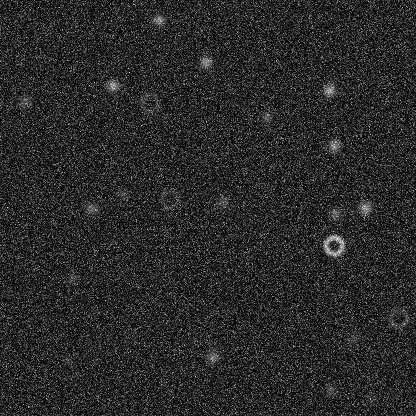Ring: (157, 186, 181, 210), (137, 90, 161, 114), (386, 305, 410, 329), (321, 233, 345, 257)
Spot: (345, 330, 361, 346), (363, 391, 379, 407), (205, 348, 221, 364), (64, 270, 80, 286), (60, 352, 76, 368), (214, 193, 230, 209), (327, 205, 343, 221), (16, 93, 32, 109), (321, 82, 337, 98), (197, 54, 213, 70), (83, 200, 99, 216), (114, 185, 130, 201), (326, 137, 342, 153), (104, 77, 120, 93), (258, 108, 274, 124), (123, 327, 139, 343), (356, 200, 372, 216), (150, 11, 166, 27), (322, 382, 338, 398)
